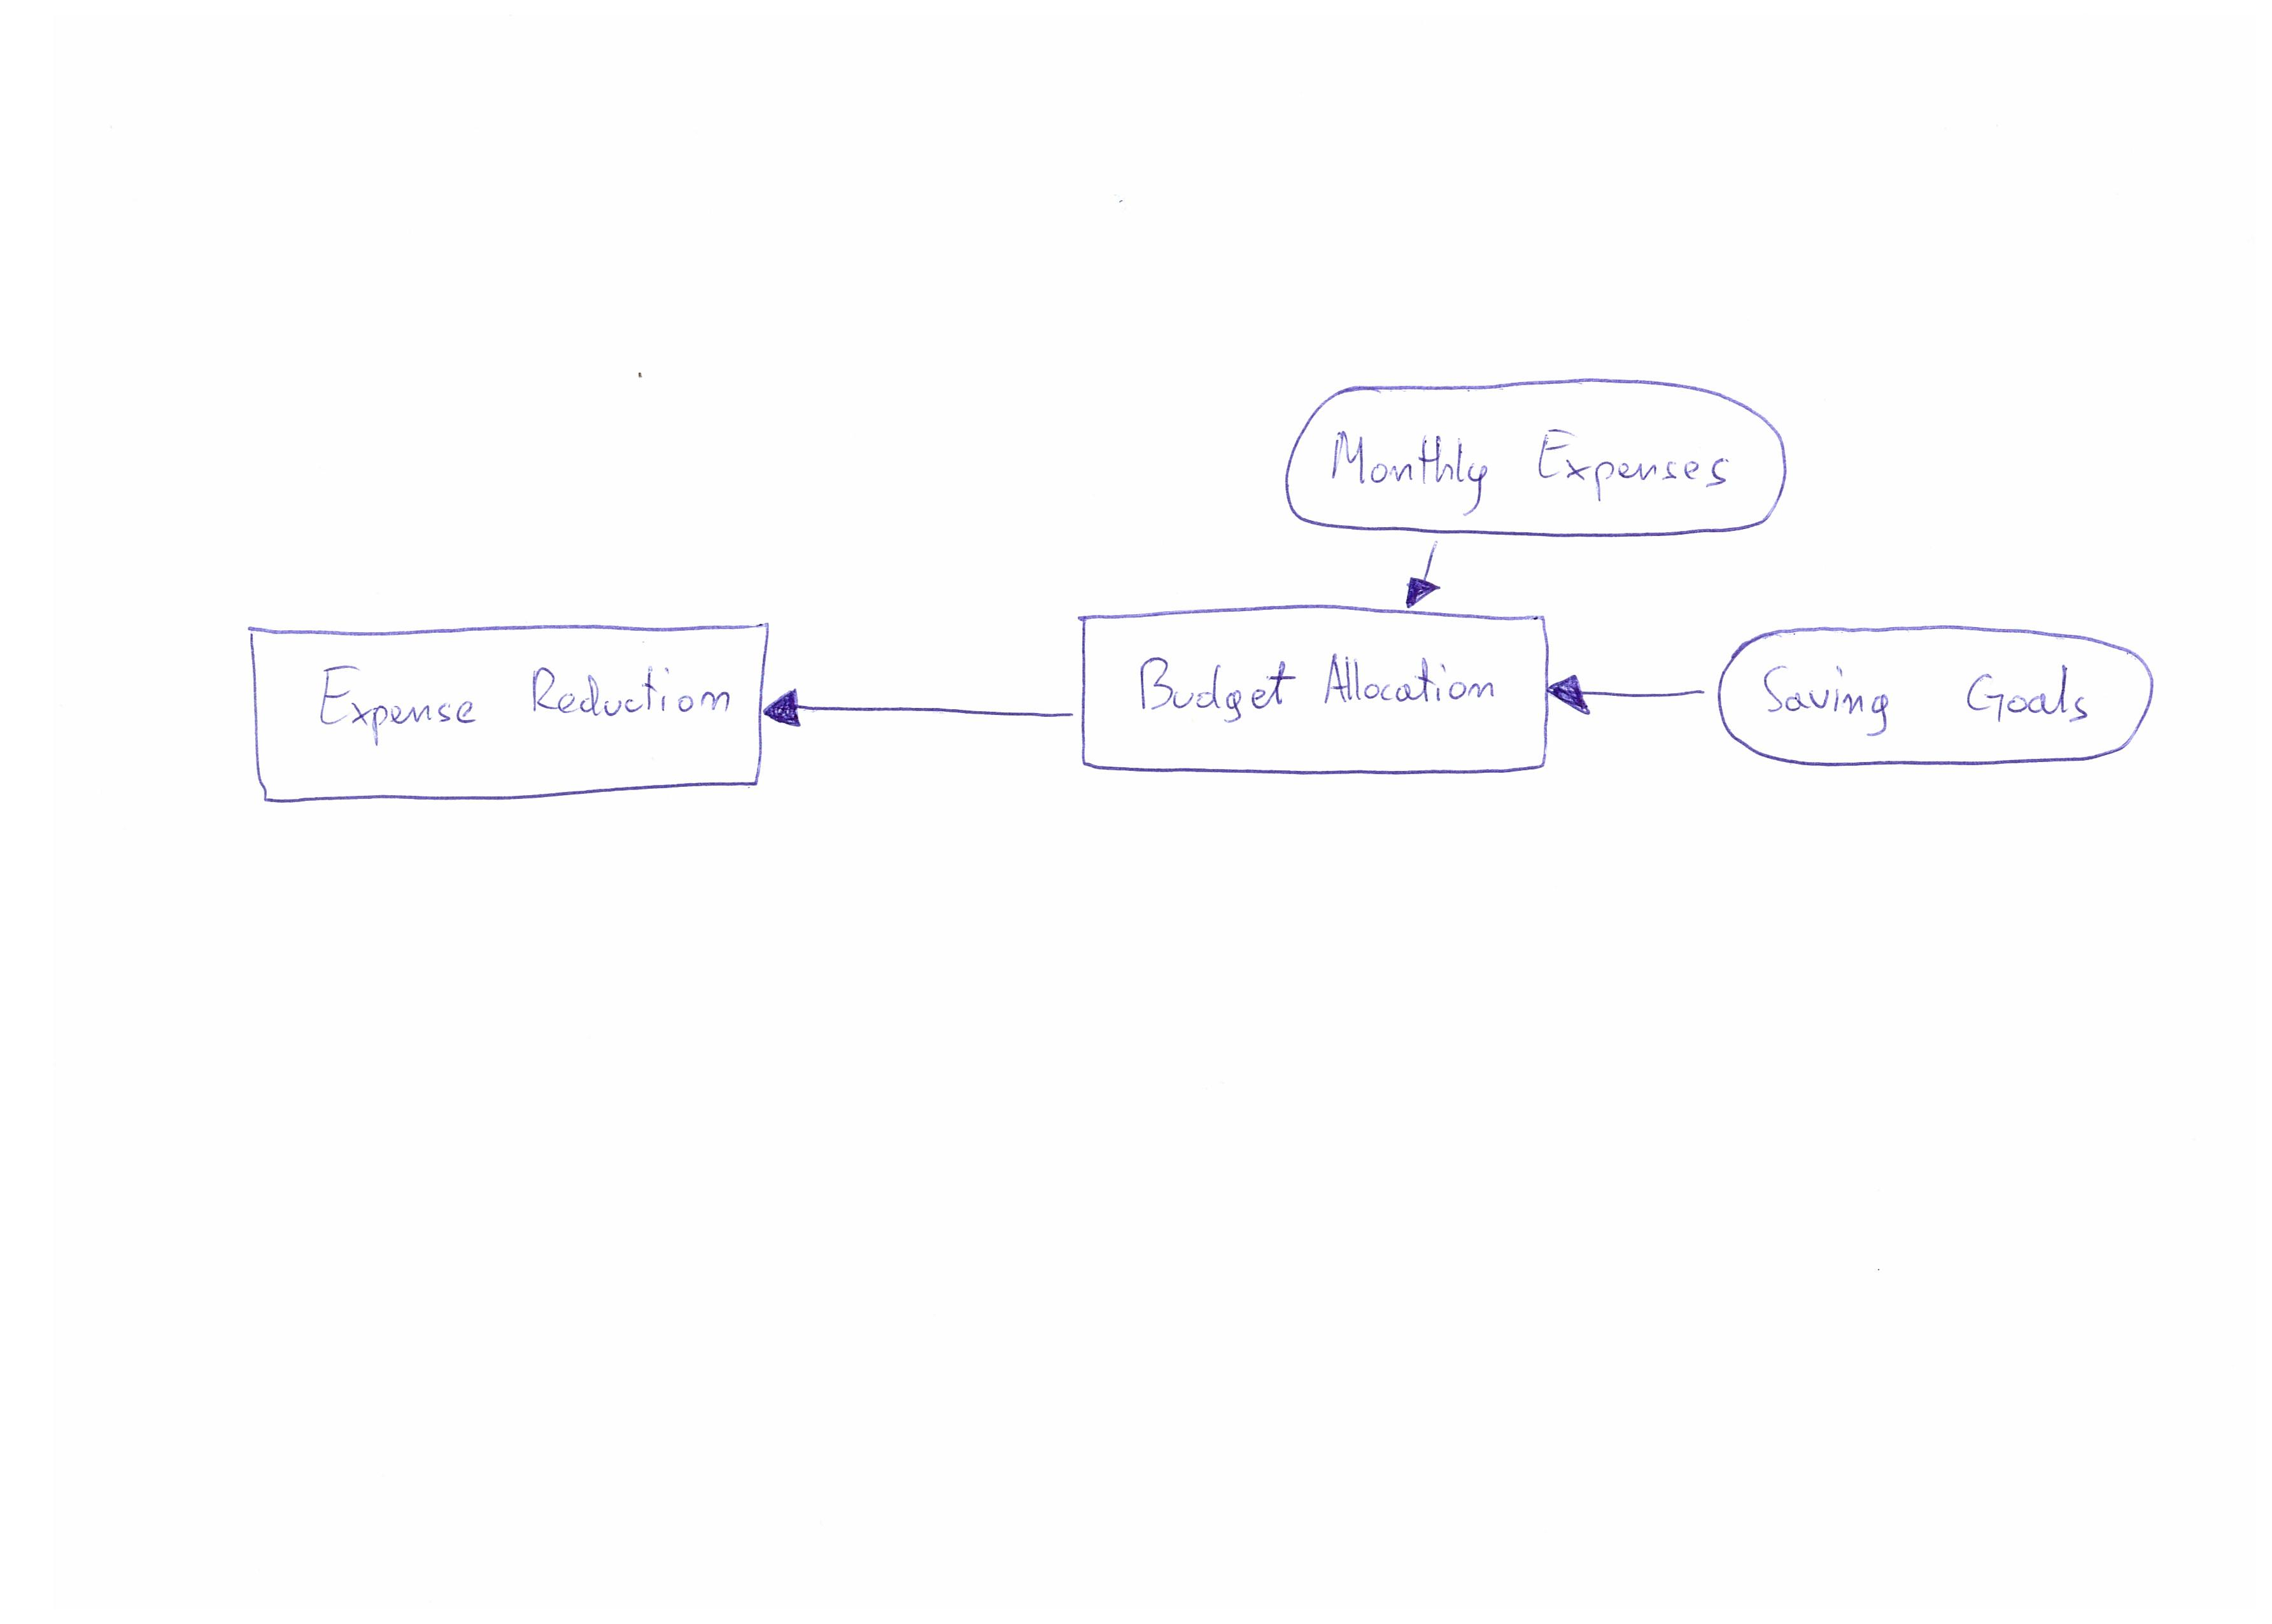arrow_information_requirement: (763, 685, 1079, 740), (1548, 666, 1715, 722), (1392, 540, 1455, 612)
node_decision: (241, 619, 770, 807), (1075, 608, 1552, 784)
node_input_data: (1276, 376, 1792, 540), (1715, 622, 2175, 779)
text: (309, 652, 740, 752), (1327, 418, 1752, 515), (1132, 642, 1509, 731), (1755, 652, 2110, 742)
